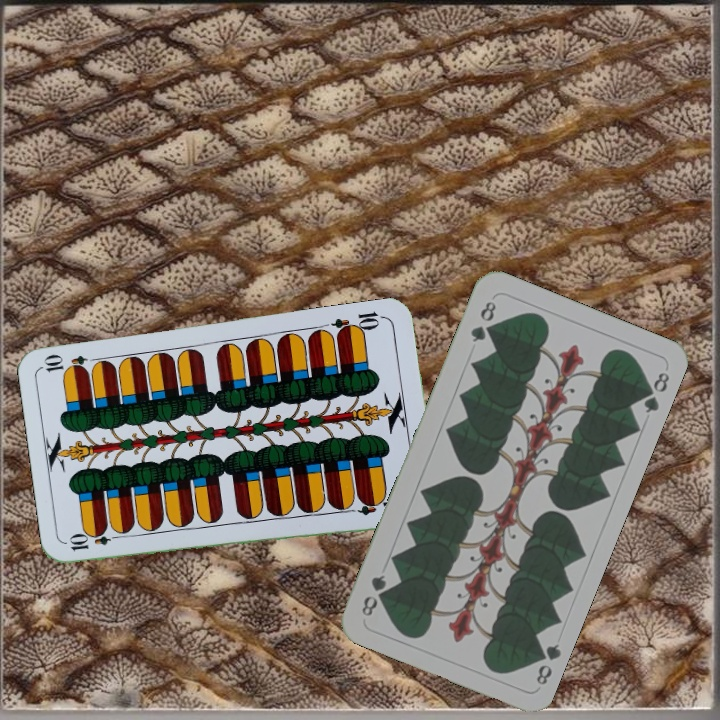E10: (328, 307, 387, 339), (65, 529, 124, 553)
G8: (529, 639, 564, 688), (466, 297, 499, 345)
